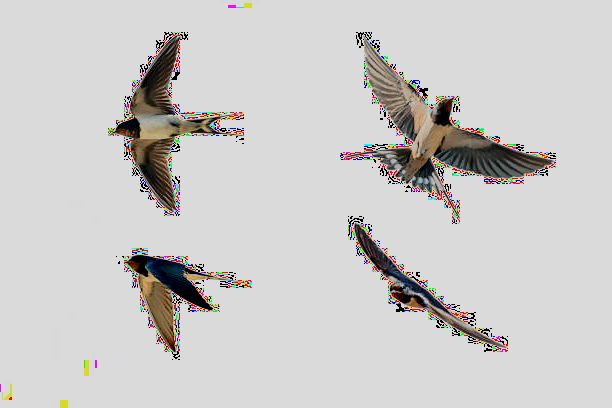Bird: (337, 29, 556, 226), (109, 30, 244, 215), (349, 222, 508, 349), (114, 250, 249, 354)
